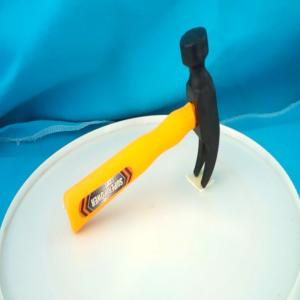martelo: (64, 27, 221, 234)
